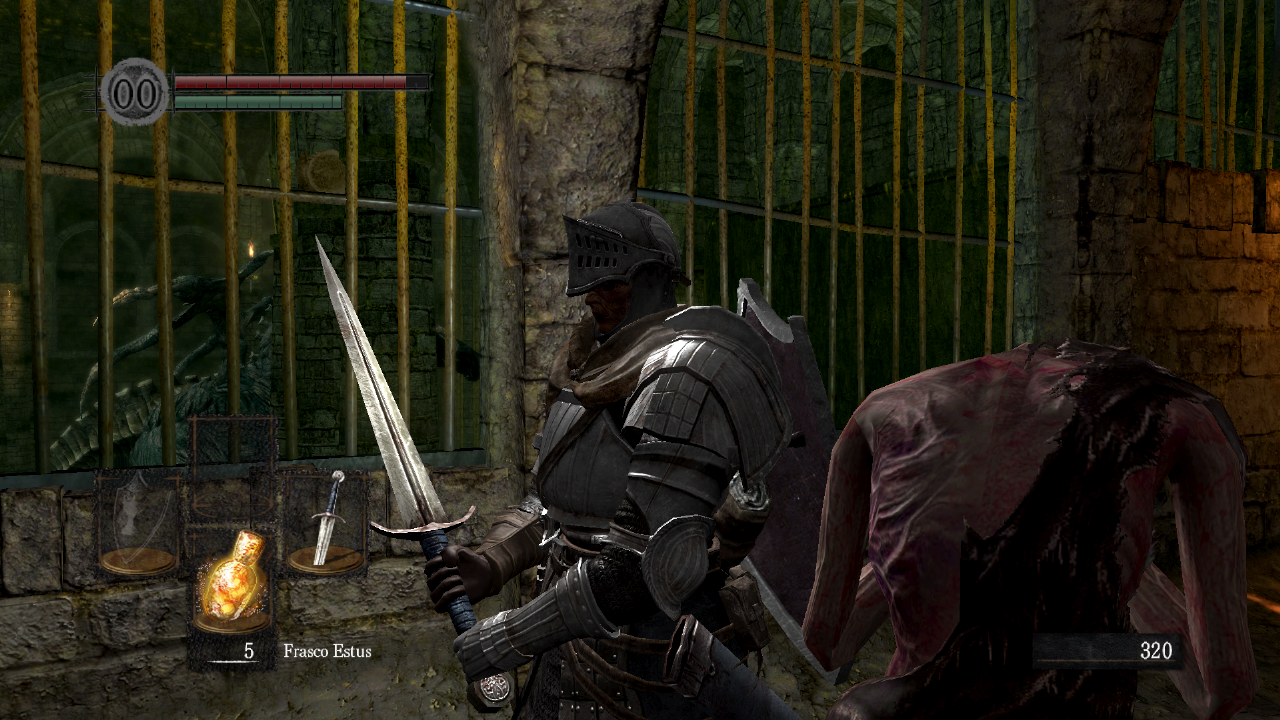hollow: (802, 337, 1261, 720)
player: (314, 202, 857, 720)
